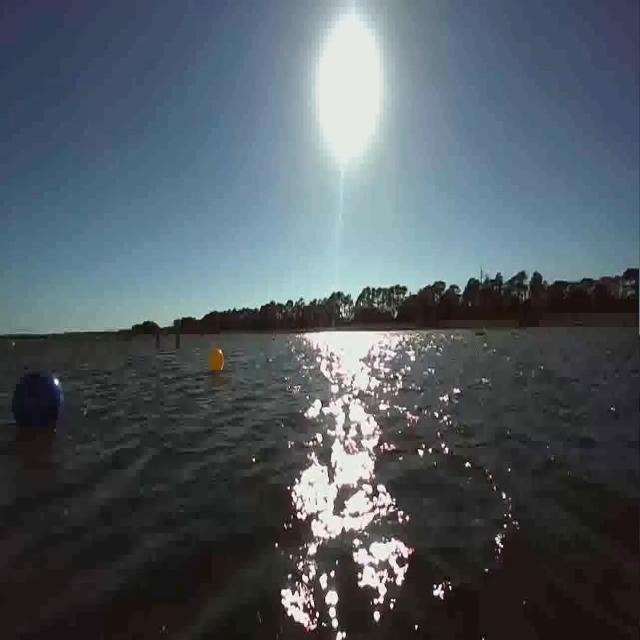blue-buoy: (12, 368, 62, 432)
yellow-buoy: (209, 346, 226, 373)
